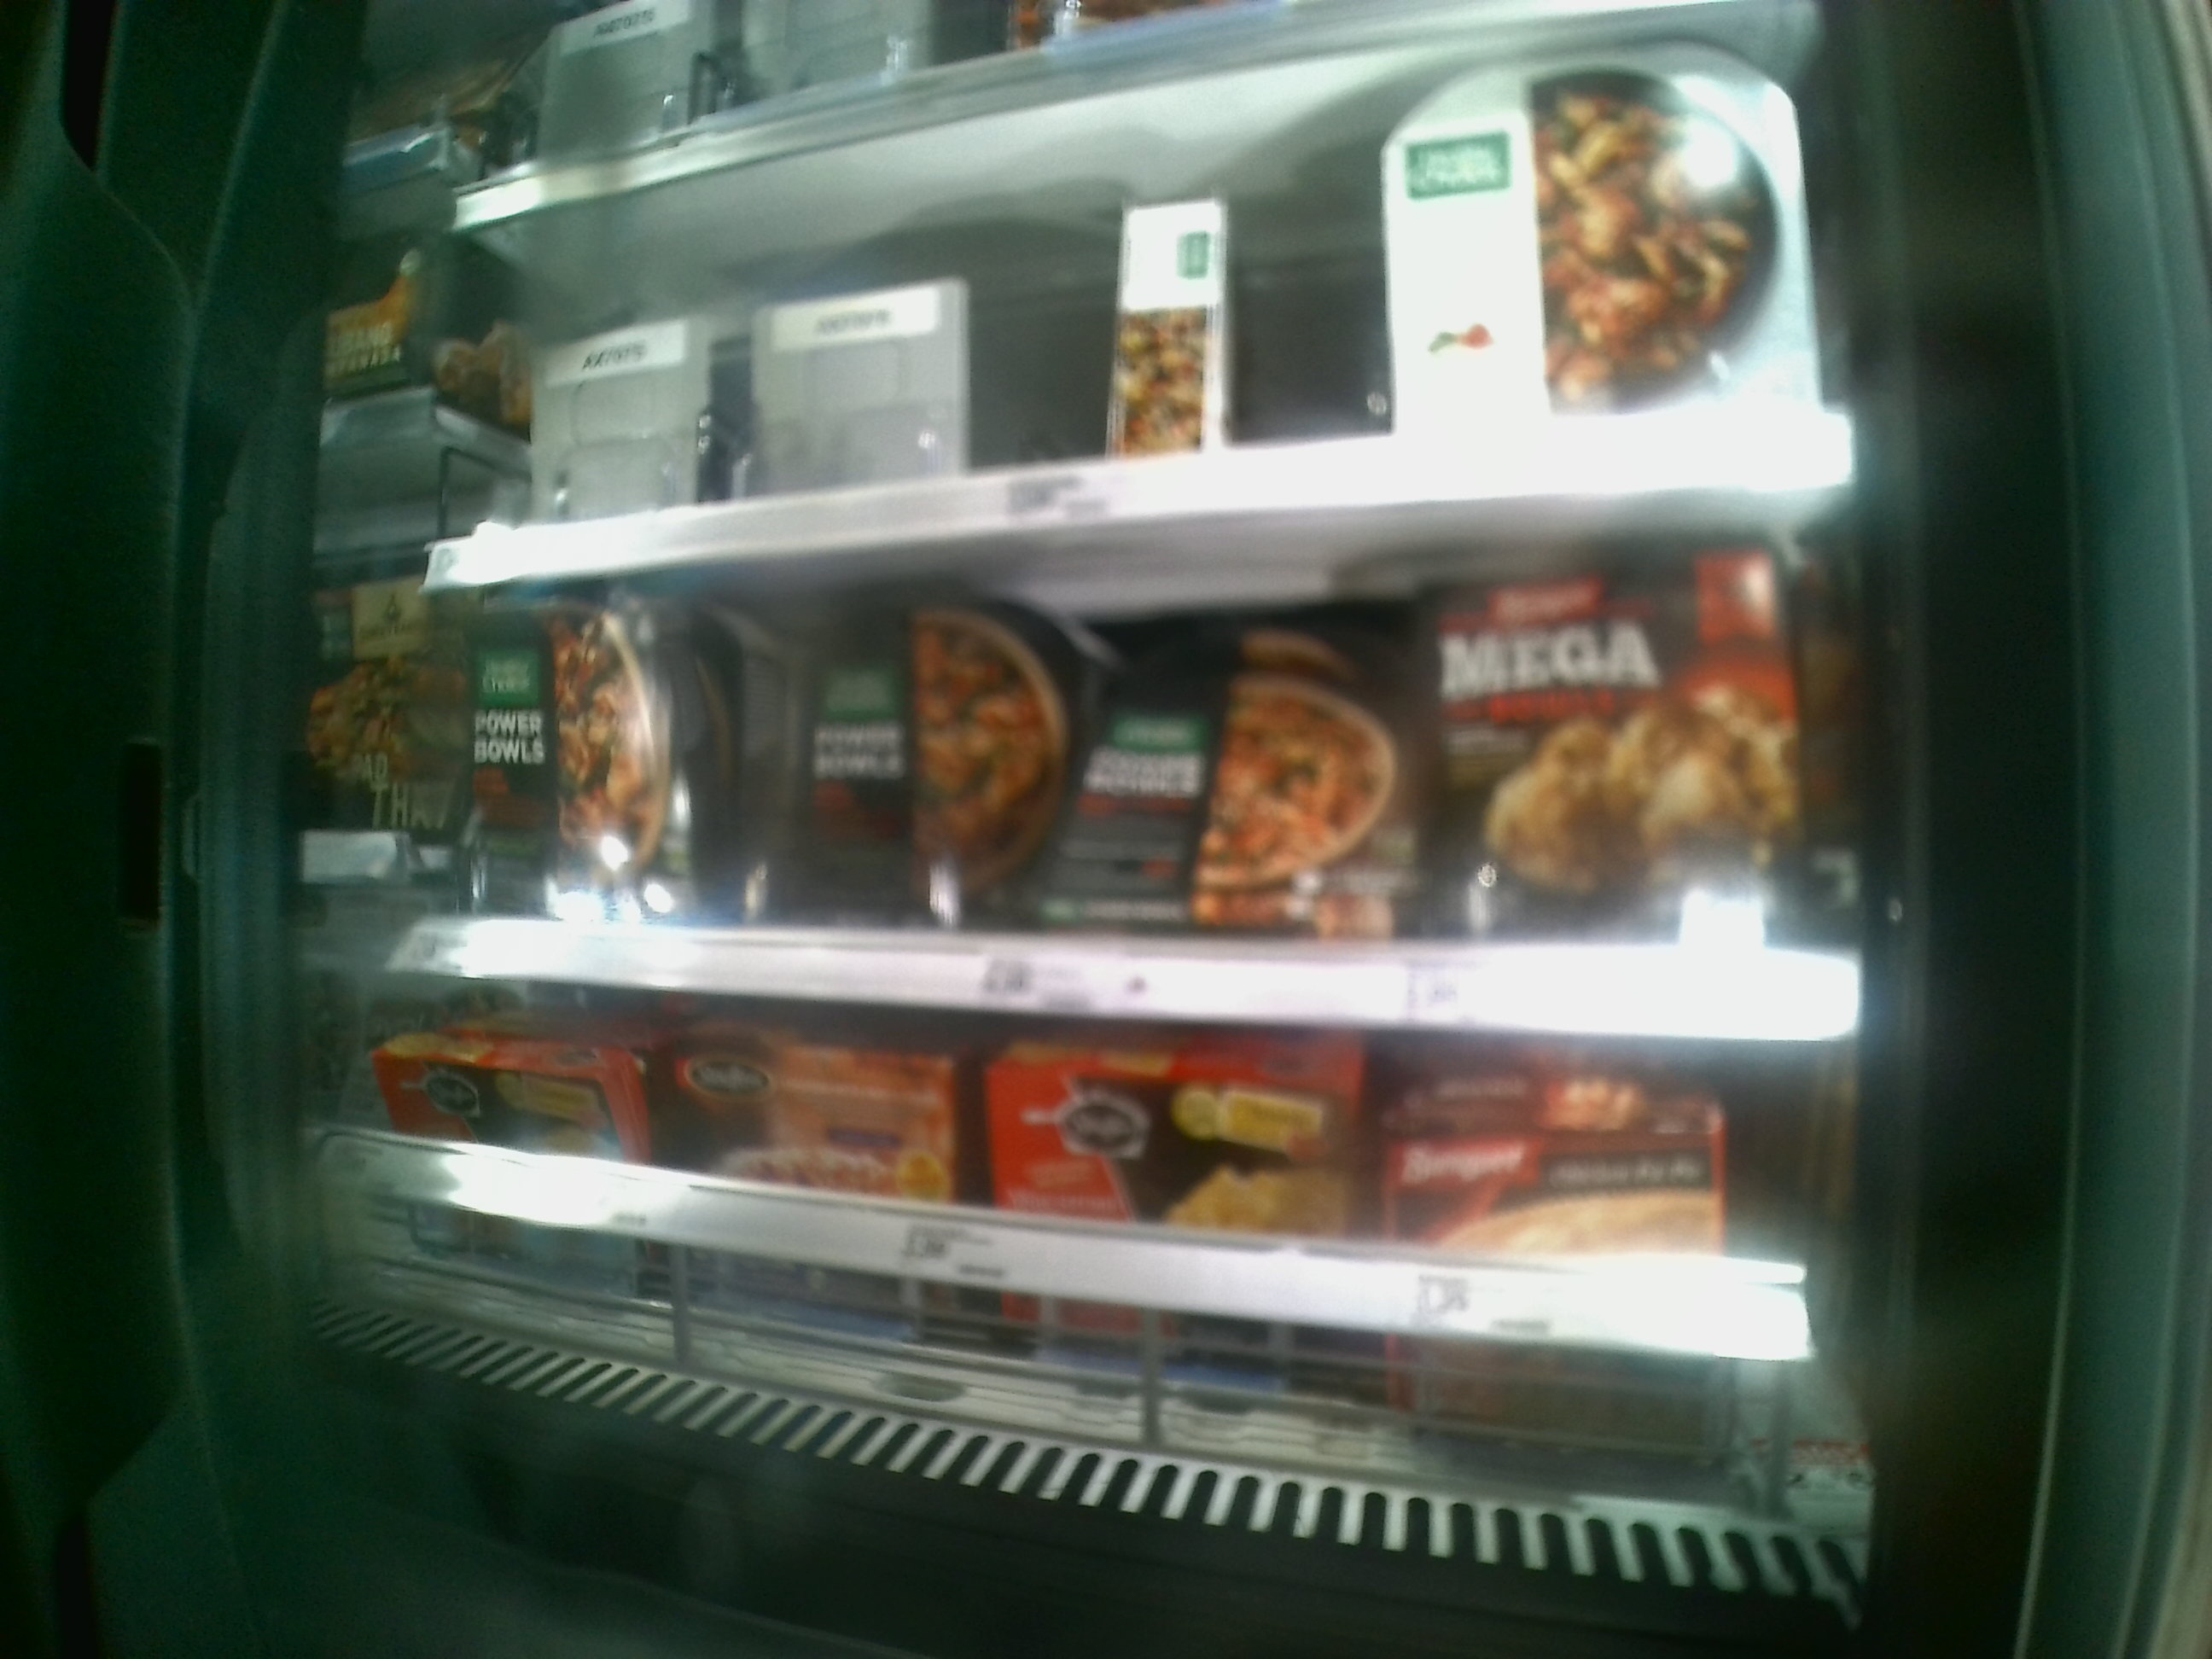shelf: (404, 488, 1855, 1037), (380, 979, 1820, 1525)
